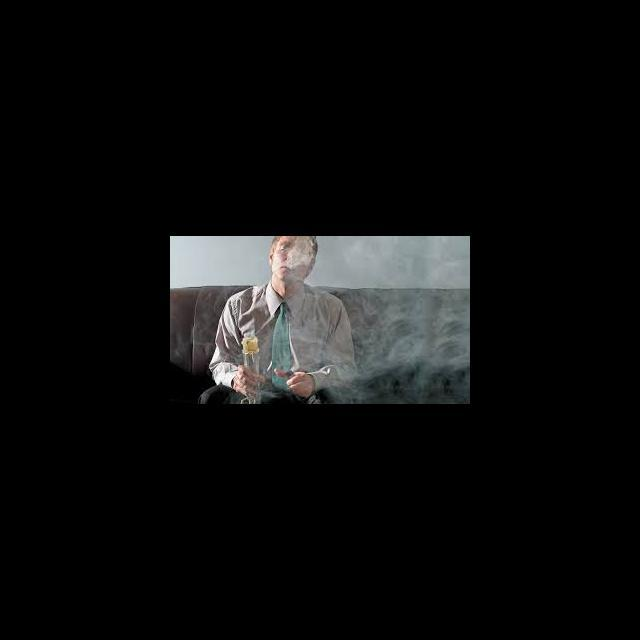Smoke: (359, 296, 466, 392), (354, 236, 470, 284), (288, 250, 310, 268)
